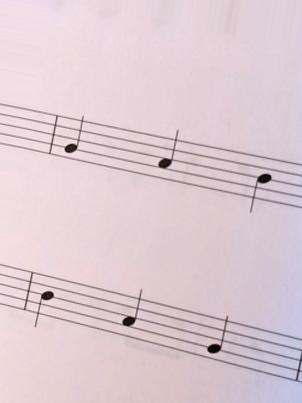A: (116, 285, 146, 351), (151, 127, 181, 188)
B: (244, 145, 275, 220), (30, 264, 57, 331)
G: (203, 306, 232, 373), (60, 107, 86, 170)
